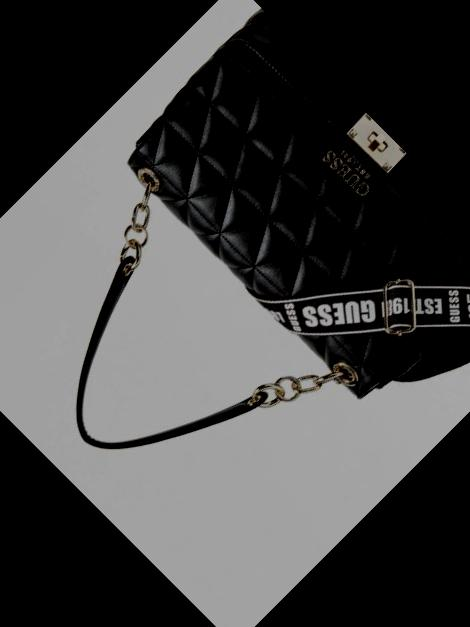GUESS: (294, 270, 382, 356), (319, 148, 370, 199), (432, 286, 470, 326), (274, 299, 310, 334)
